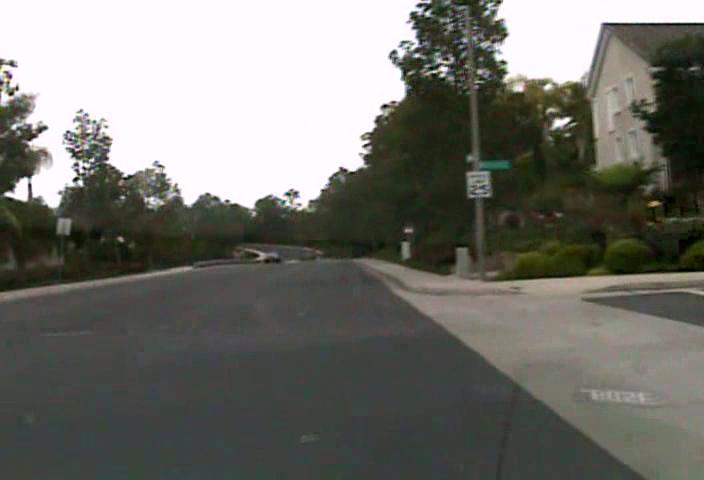speedLimit25: (465, 169, 492, 198)
